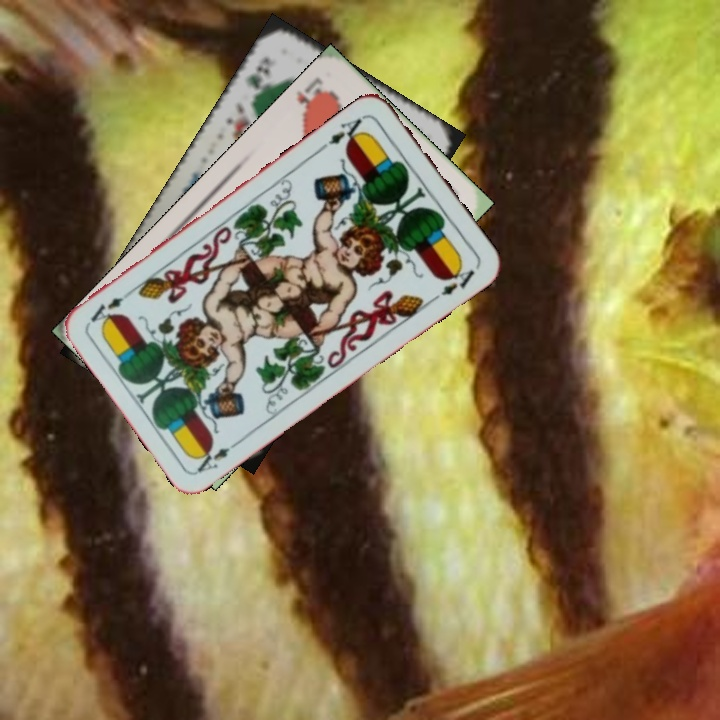EA: (190, 435, 244, 476), (324, 111, 369, 149)
GK: (242, 53, 278, 102)
HO: (292, 73, 334, 120)
